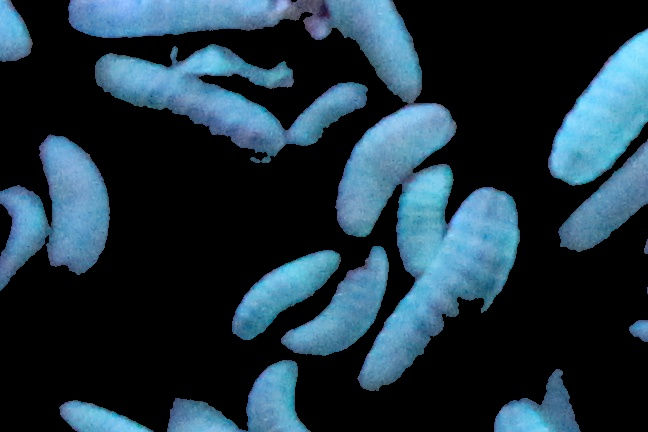larvae: (355, 185, 520, 396), (91, 50, 283, 161), (547, 22, 648, 187), (333, 103, 456, 234), (283, 246, 390, 355), (316, 1, 423, 99), (559, 138, 648, 252), (40, 134, 110, 274), (231, 250, 339, 339), (67, 1, 291, 38), (397, 164, 453, 271), (289, 79, 375, 148), (241, 356, 314, 432), (1, 185, 48, 302), (56, 396, 162, 432), (162, 391, 248, 432)
